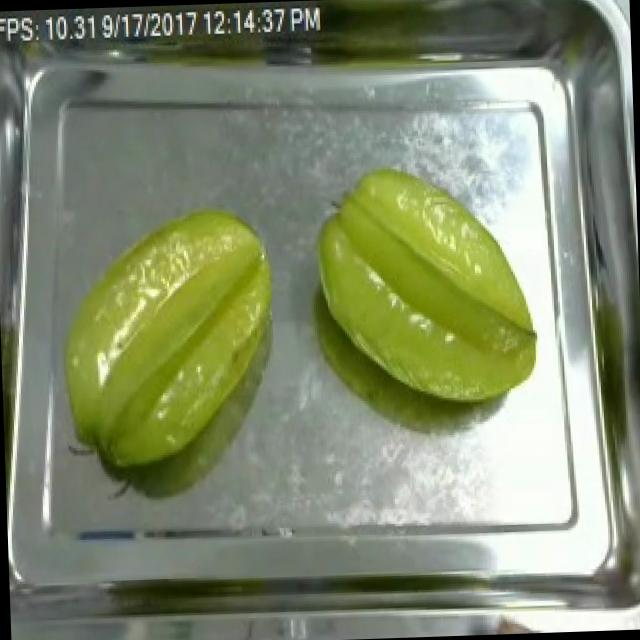fruit: (44, 192, 292, 486), (300, 159, 546, 417)
